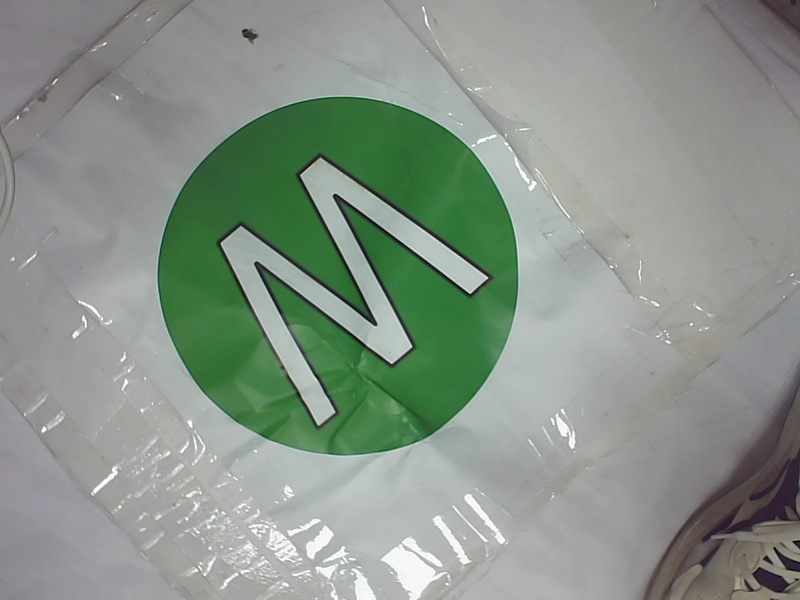areaB: (141, 91, 517, 464)
